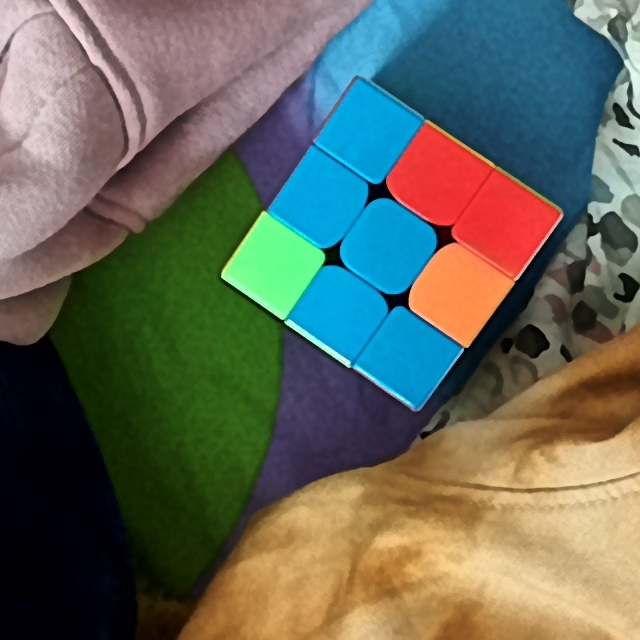tile: (478, 196, 536, 249), (340, 106, 396, 160), (430, 265, 483, 321), (312, 286, 367, 339), (361, 222, 417, 274), (294, 174, 348, 227), (408, 153, 464, 204), (248, 242, 302, 293), (381, 333, 432, 383)
